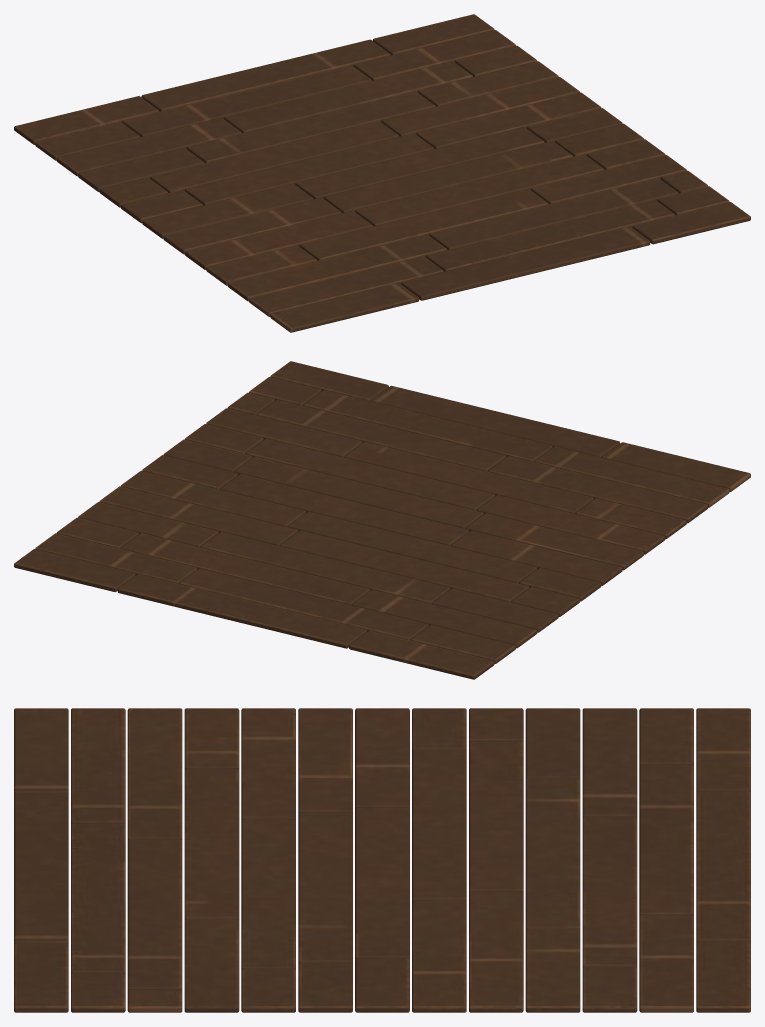
The model's file is floor_planks_dark.glb.
3 renders of one model, top to bottom at view 1: azimuth 30°, elevation 25°; view 2: azimuth 150°, elevation 25°; view 3: azimuth 270°, elevation 25°, orthographic. The views are drawn at different scales.
Parts seen in each view (by area): view 1: floor_planks_dark_wood_dark; view 2: floor_planks_dark_wood_dark; view 3: floor_planks_dark_wood_dark.
Part boxes in pixels (bbox=[...]): floor_planks_dark_wood_dark: bbox=[14, 14, 750, 332]; floor_planks_dark_wood_dark: bbox=[14, 361, 750, 679]; floor_planks_dark_wood_dark: bbox=[14, 708, 750, 1012].
Bounding box in the file's own units: 3.99 × 0.04 × 4.15.
Materials: 1 (1 with a texture image).
